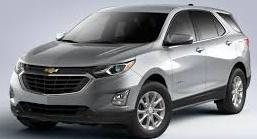Crossovers: (11, 7, 252, 139)
